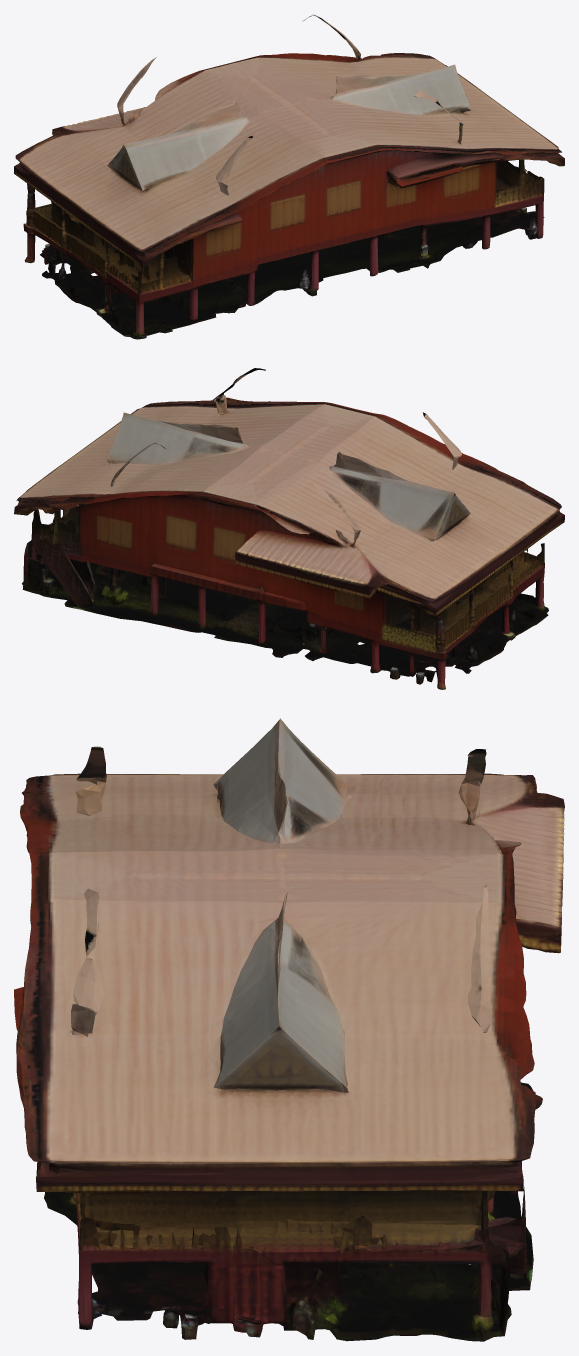
File: sumatera-selatan.glb
3 views of the same model, one above another, from view 1: azimuth 30°, elevation 25°; view 2: azimuth 150°, elevation 25°; view 3: azimuth 270°, elevation 25° (orthographic). The views are drawn at different scales.
Visible parts, largest first — view 1: world; view 2: world; view 3: world.
Part boxes in pixels (bbox=[...]): world: bbox=[14, 14, 564, 339]; world: bbox=[14, 368, 564, 689]; world: bbox=[14, 718, 564, 1341].
Size of the model in its own units: 0.6982 by 0.279 by 0.4109.
1 material, 1 textured.
